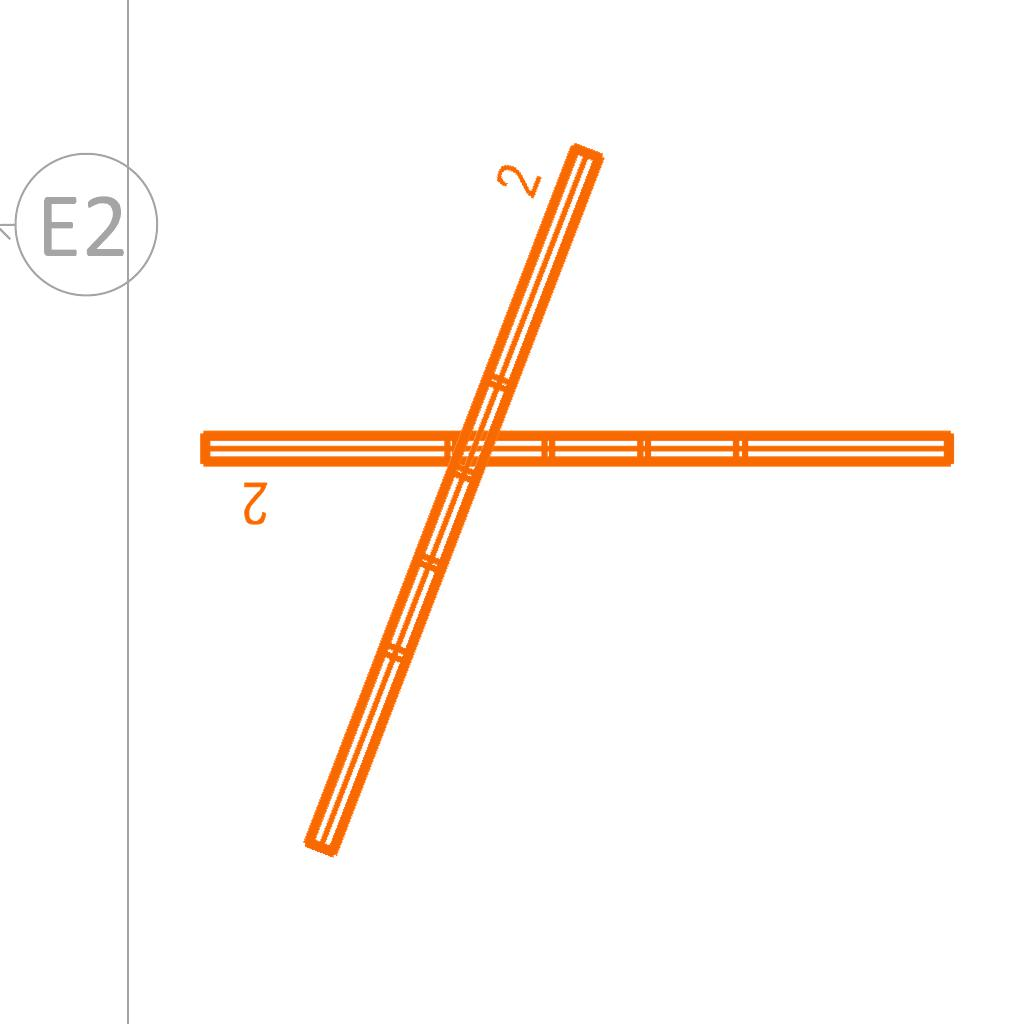Ambulanz_Pendelleuchte_LED: (239, 110, 621, 874), (191, 418, 965, 530)
